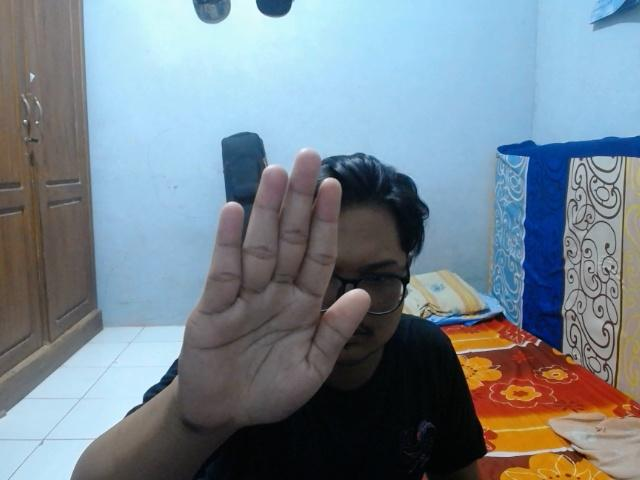Release: (175, 144, 375, 437)
